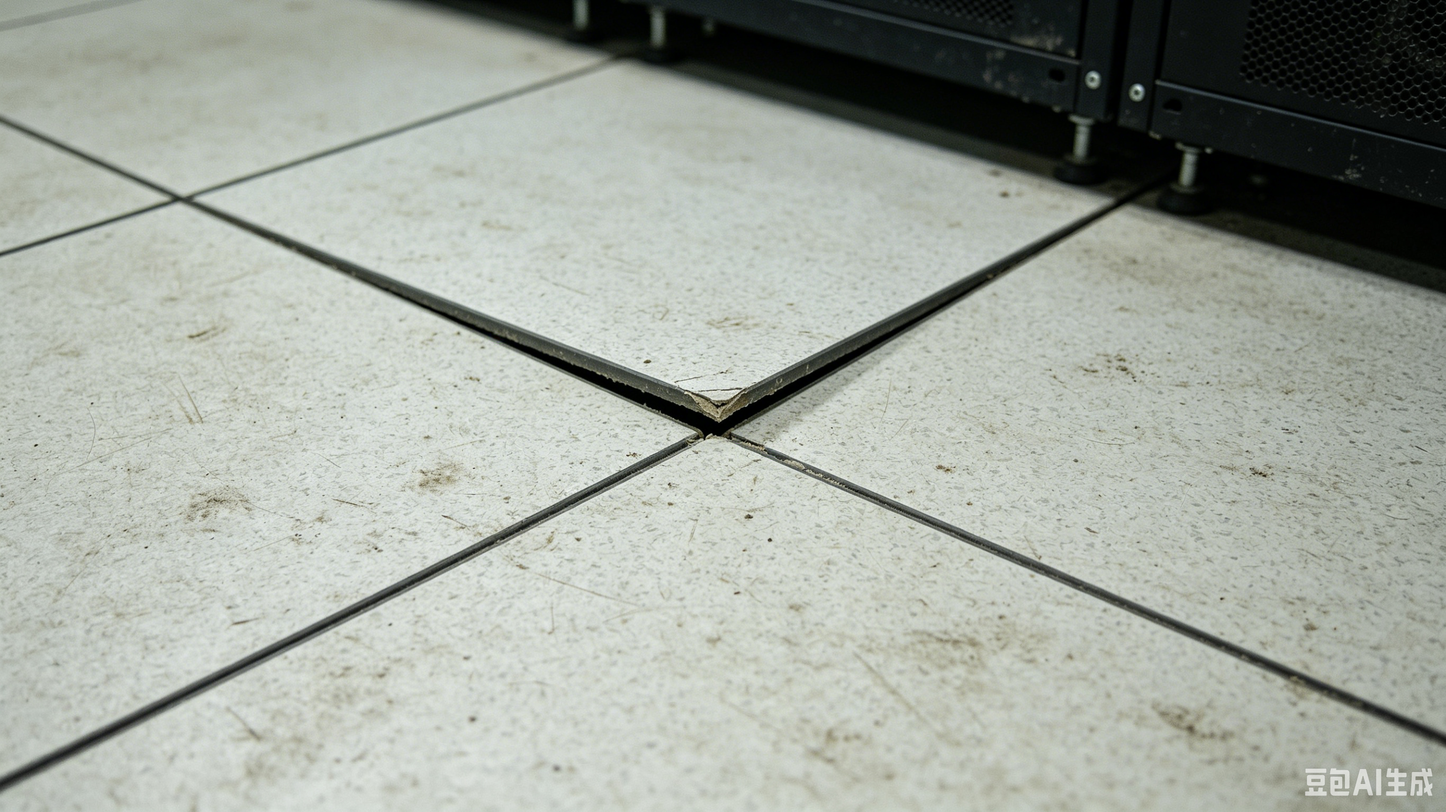floor_defect: (460, 310, 1015, 468)
